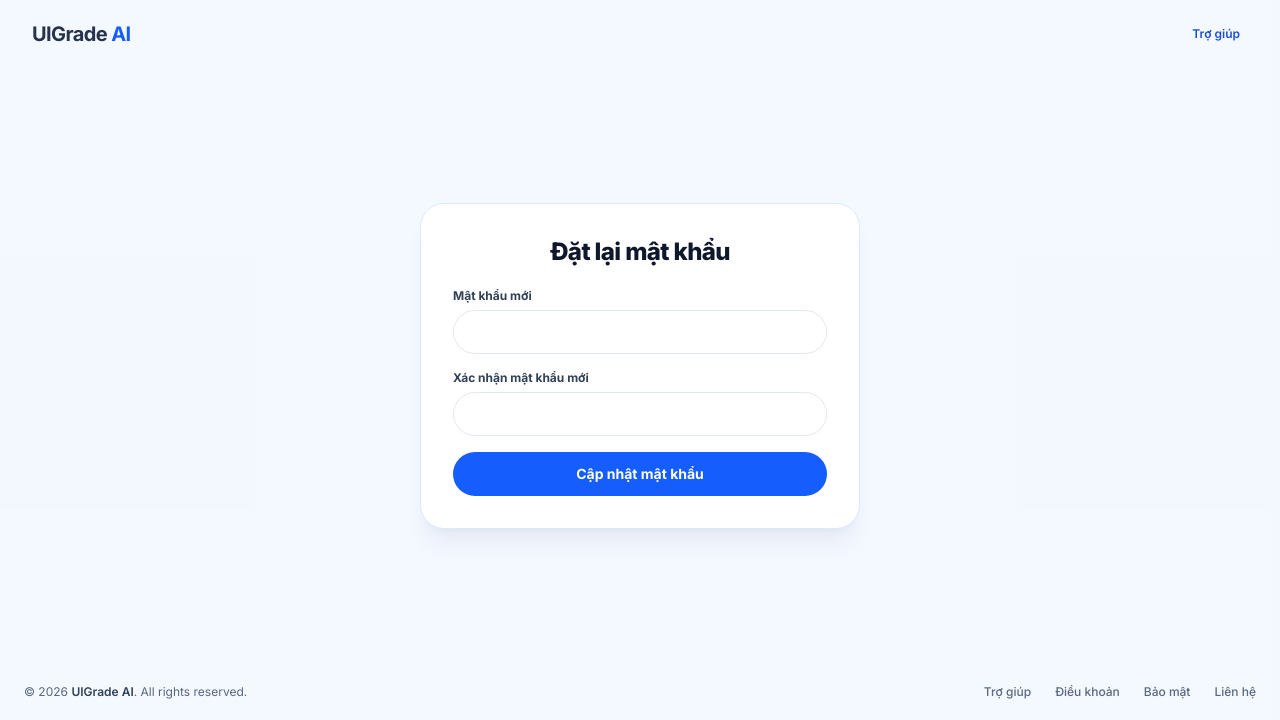
Test: password recovery form › updates the password and ends the recovery session
This screenshot has width=1280, height=720.
In the password field labelled "Mật khẩu mới": (640, 332) [453,310,827,354], type "new-password-123"
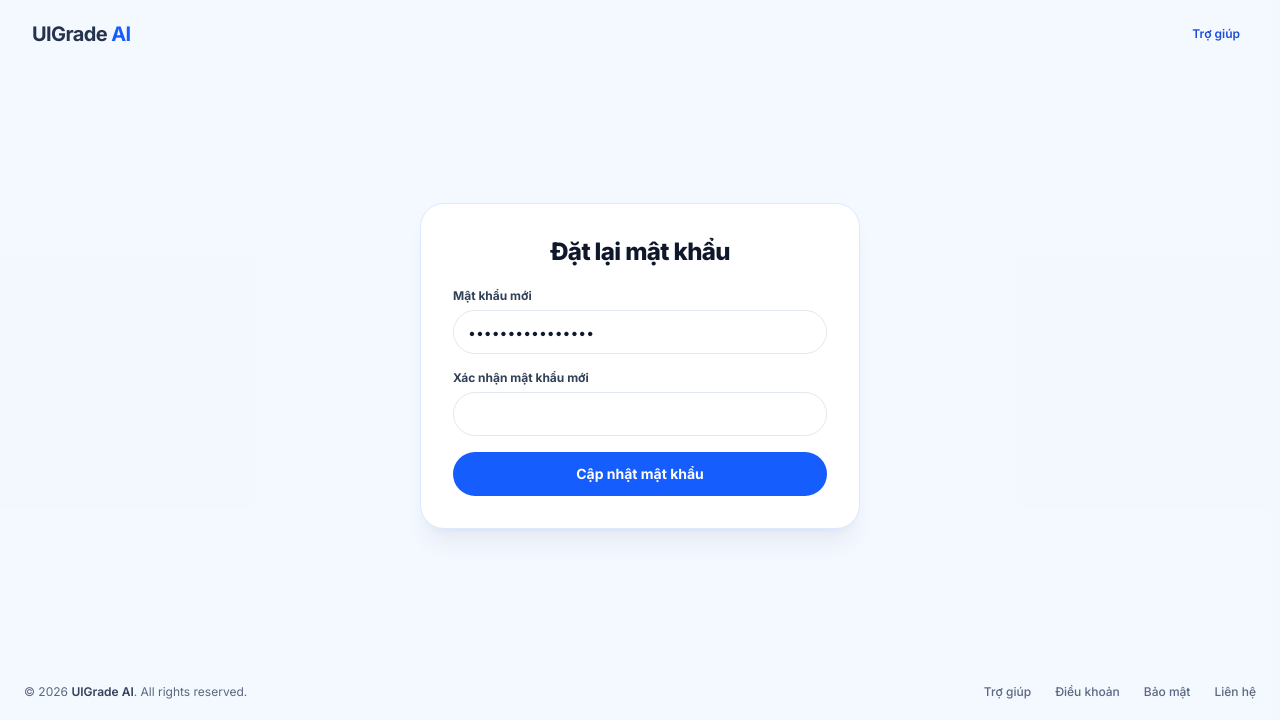
In the password field labelled "Xác nhận mật khẩu mới": (640, 414) [453,392,827,436], type "new-password-123"
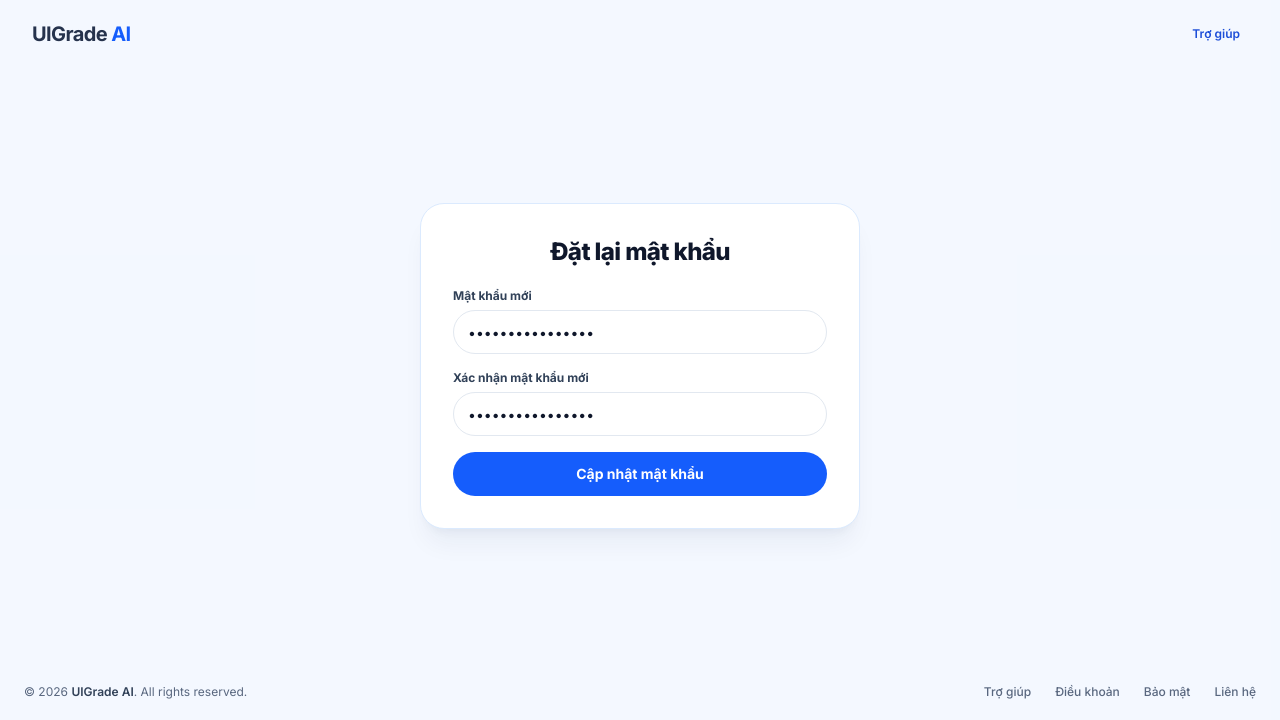
Click the button "Cập nhật mật khẩu": (640, 474) [453,452,827,496]
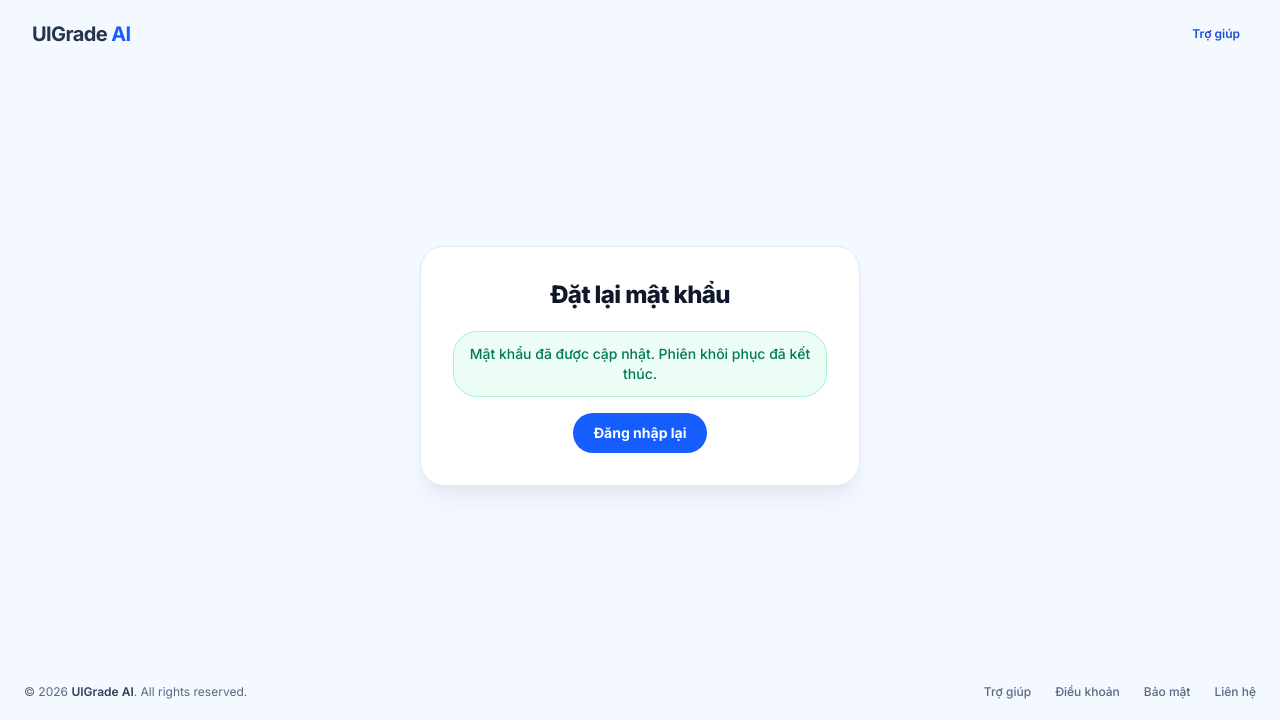
Now the text "Mật khẩu đã được cập nhật. Phiên khôi phục đã kết thúc." is shown, box [453,331,827,397]
